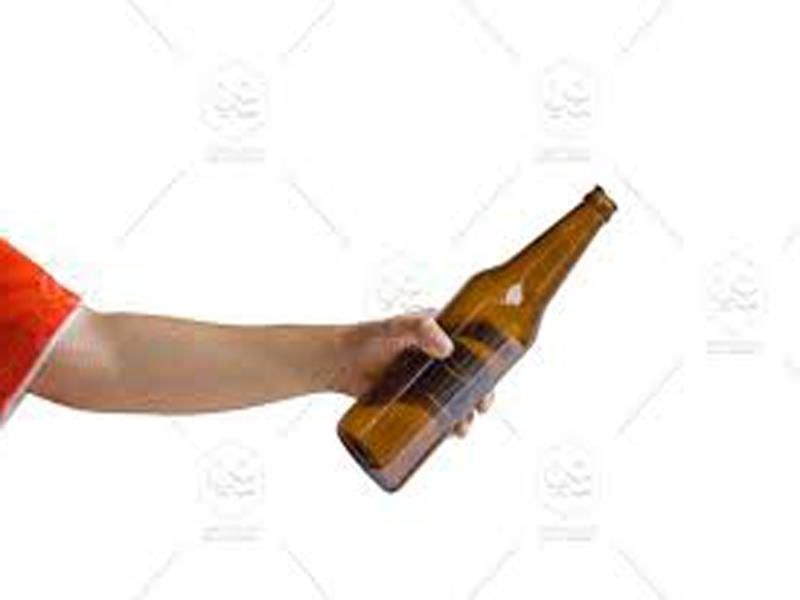Beer: (336, 187, 616, 495)
